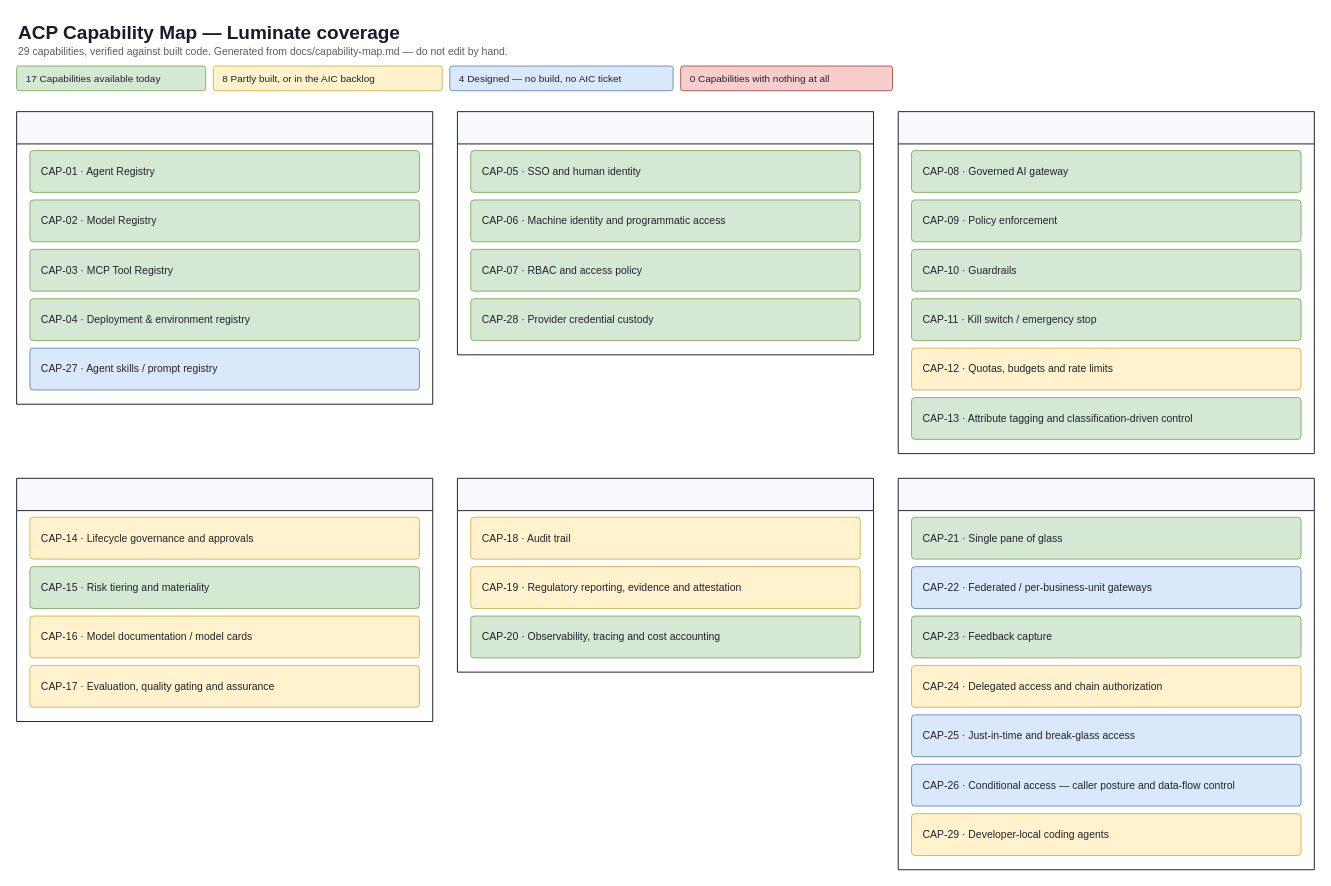
Some shapes in this 1331 by 886 pixel diagram are drawn without their labels. Each missing label, with the box of its shape:
Group A — Registry and inventory: (16, 111, 433, 404)
Group B — Identity and access: (456, 111, 874, 355)
Group C — Runtime enforcement (the gateway data path): (897, 111, 1314, 454)
Group D — Governance and model risk: (16, 477, 433, 722)
Group E — Evidence, audit and reporting: (456, 477, 874, 672)
Group F — Experience and topology: (897, 477, 1314, 870)
